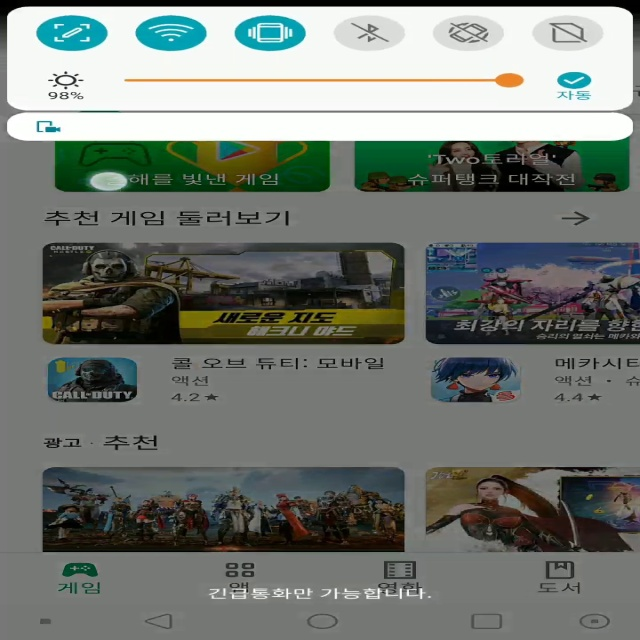Cursor: (88, 171, 132, 193)
